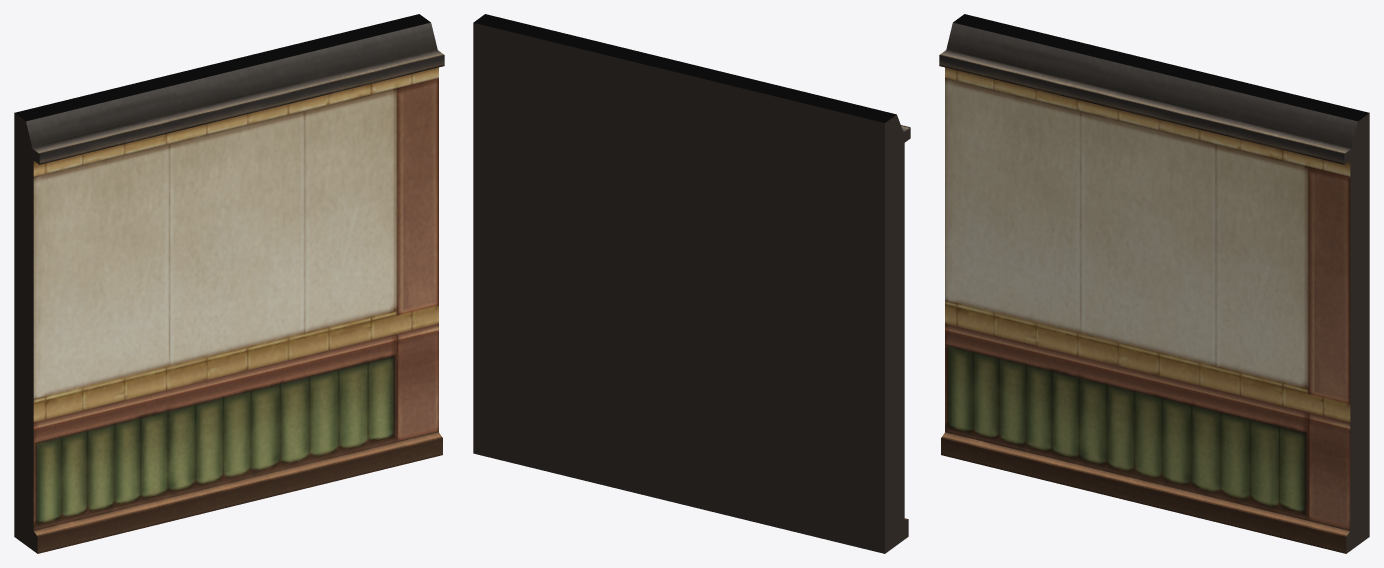
File: a_SWIwall02.glb
3 renders of one model, left to right at view 1: azimuth 30°, elevation 25°; view 2: azimuth 150°, elevation 25°; view 3: azimuth 330°, elevation 25°, orthographic.
Parts seen in each view (by area): view 1: a_SWIwall02; view 2: a_SWIwall02; view 3: a_SWIwall02.
Boxes of the visible parts, bbox=[...] form: a_SWIwall02: bbox=[14, 14, 444, 553]; a_SWIwall02: bbox=[473, 14, 910, 553]; a_SWIwall02: bbox=[939, 14, 1369, 553].
Bounding box in the file's own units: 3 × 3 × 0.324.
Materials: 1 (1 with a texture image).
